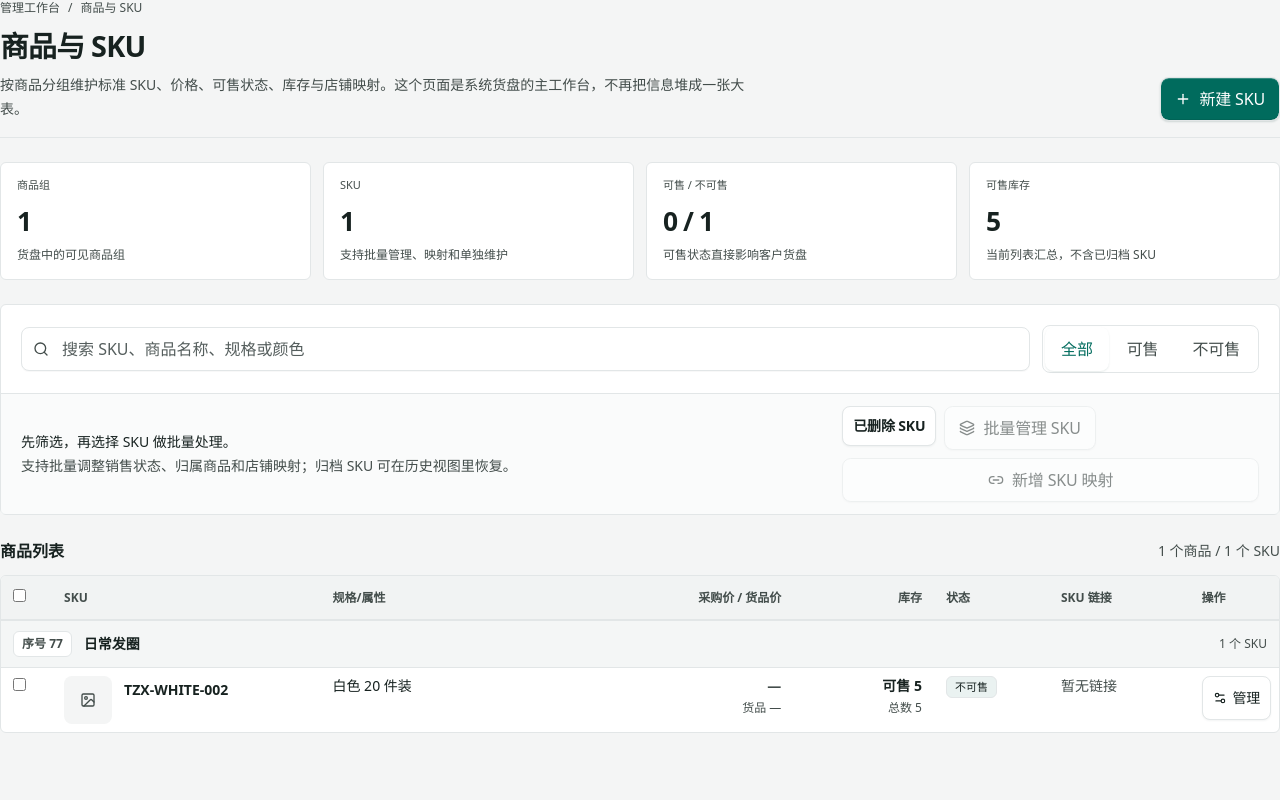
Test: catalog workspaces › renders a missing purchase price as empty and requires an administrator to fill it before saving
Expected: the 1st text "—" is shown, left=767, top=676, right=781, bottom=695
Click the button "管理": (1236, 698) left=1202, top=676, right=1271, bottom=720
(page scrolled)
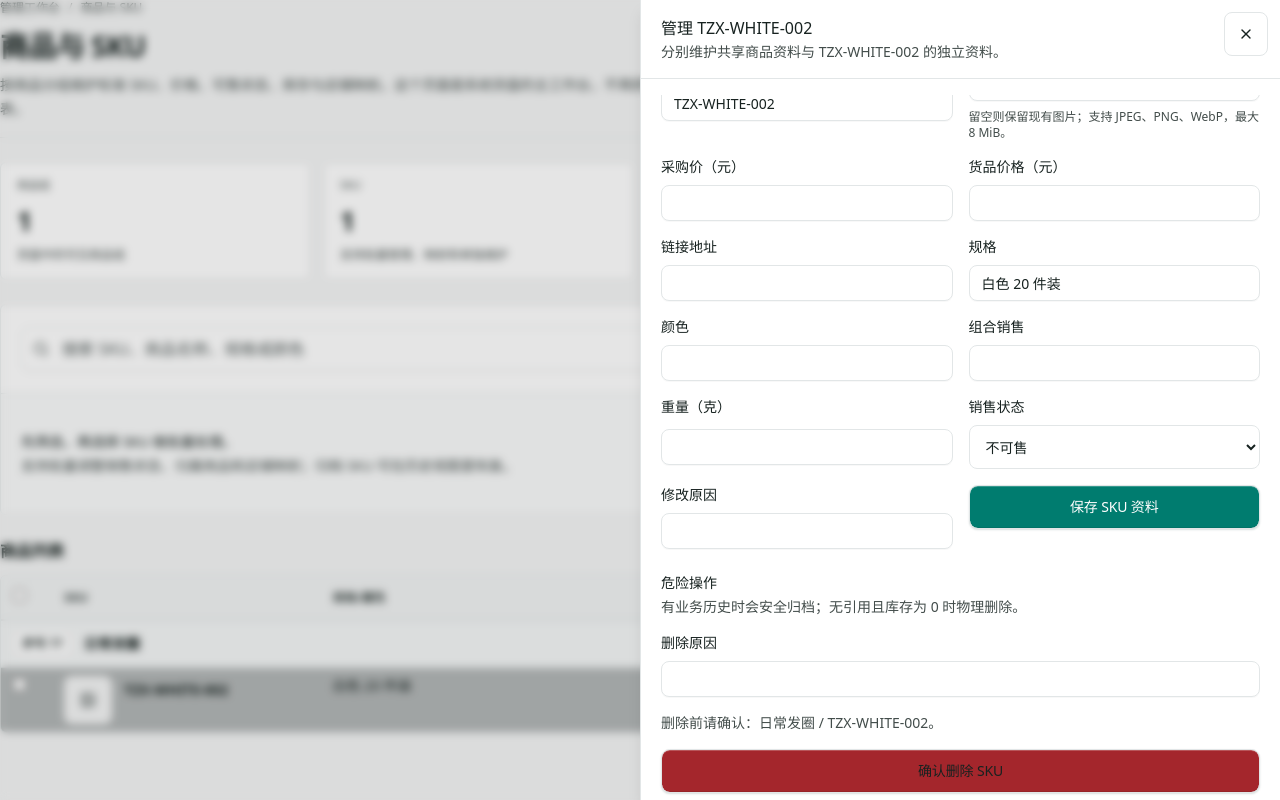
Expected: the field labelled "采购价（元）" is empty, left=661, top=185, right=952, bottom=221
Expected: the number field labelled "重量（克）" is not empty, left=661, top=429, right=952, bottom=465
